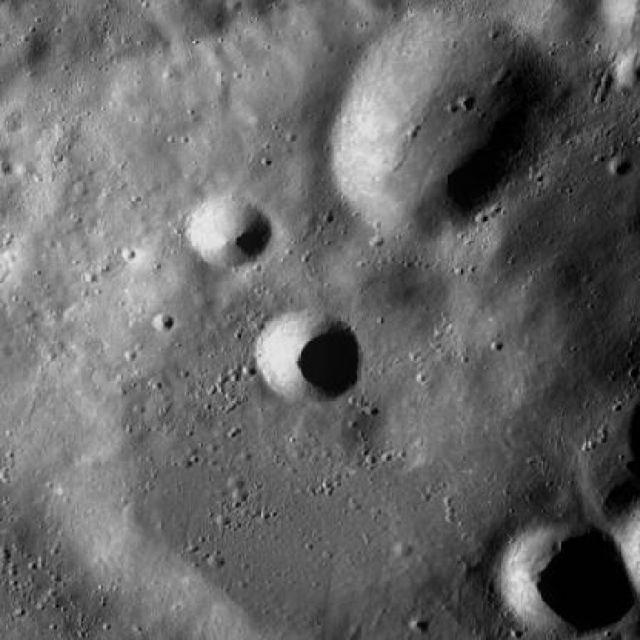crater: (319, 22, 556, 230), (497, 518, 635, 640), (326, 222, 452, 333), (256, 310, 362, 402), (188, 196, 272, 270), (514, 0, 600, 45), (149, 0, 228, 42), (12, 29, 48, 62), (0, 102, 26, 132), (608, 154, 632, 176), (154, 313, 174, 332), (163, 63, 183, 80), (412, 616, 428, 632), (0, 157, 12, 173), (0, 0, 2, 3), (0, 0, 2, 2)
